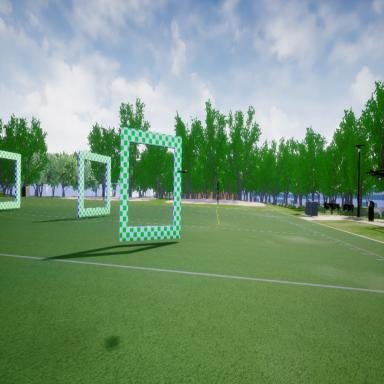gate: (118, 124, 184, 244), (75, 147, 113, 222)
